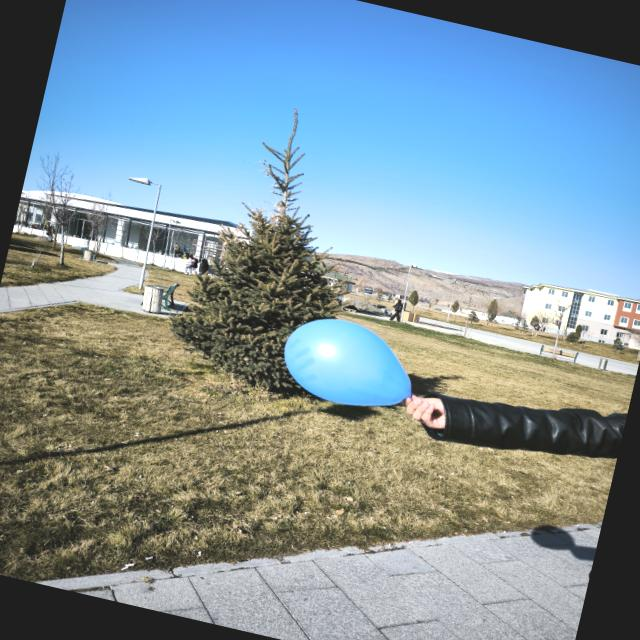balloon: (283, 319, 411, 405)
